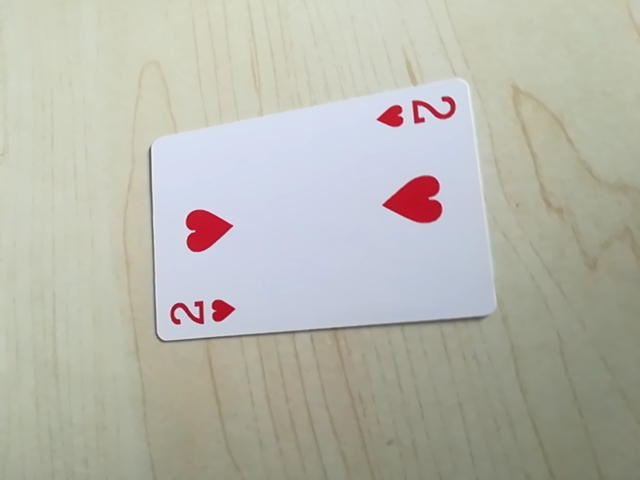hx 2: (373, 89, 465, 137), (162, 292, 243, 335)
